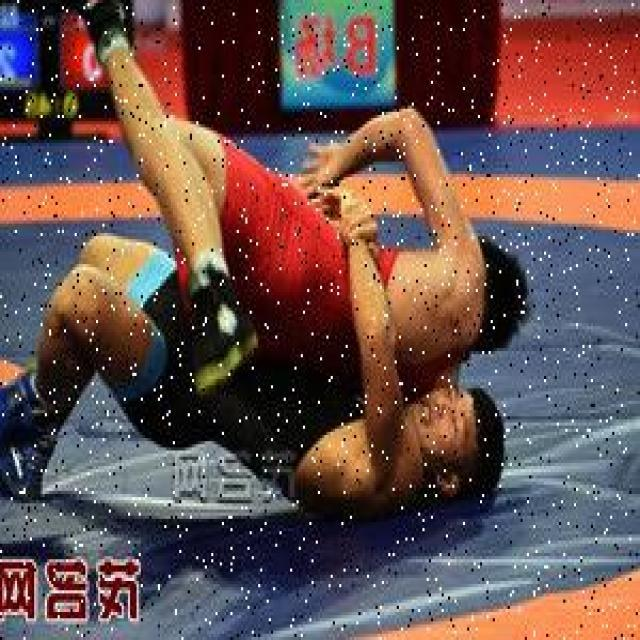fall: (51, 252, 510, 528)
